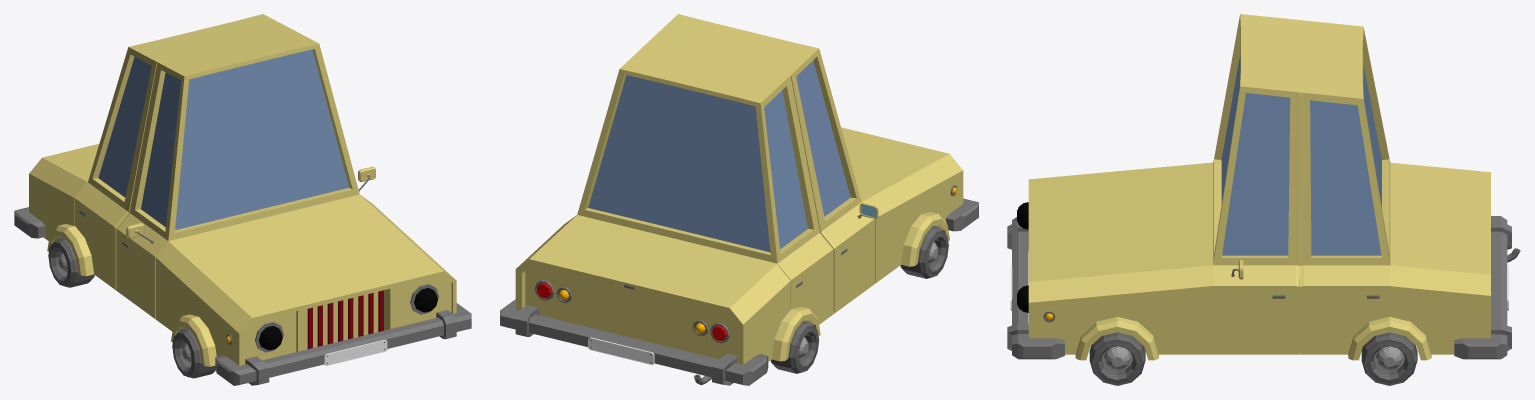
File: car1.fbx
The picture shows the model from 3 angles, left to right: view 1: azimuth 30°, elevation 25°; view 2: azimuth 150°, elevation 25°; view 3: azimuth 270°, elevation 25°; orthographic projection. The views are drawn at different scales.
Visible parts, largest first — view 1: car0; view 2: car0; view 3: car0.
Boxes of the visible parts, x1=… form: car0: x1=14, y1=14, x2=471, y2=385; car0: x1=500, y1=14, x2=978, y2=385; car0: x1=1007, y1=14, x2=1520, y2=385.
Bounding box in the file's own units: 143 × 135 × 232.
